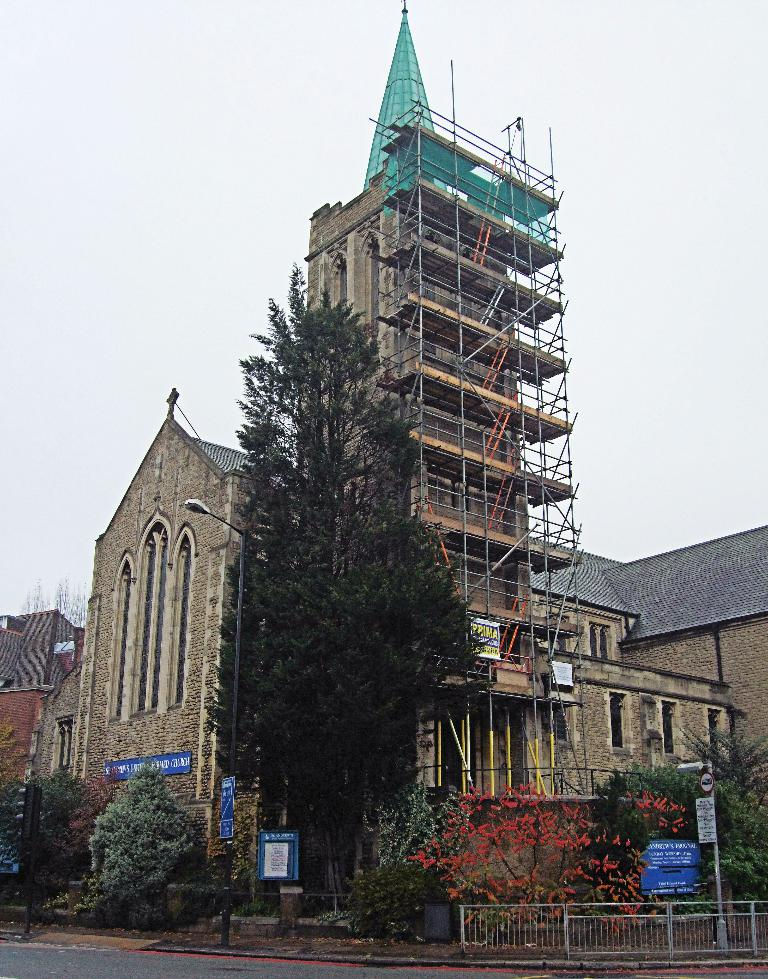Tree: (205, 229, 468, 894), (401, 783, 690, 942), (600, 763, 767, 913), (78, 755, 206, 936), (353, 785, 470, 936), (0, 763, 88, 867), (674, 723, 767, 799), (65, 758, 130, 858)
